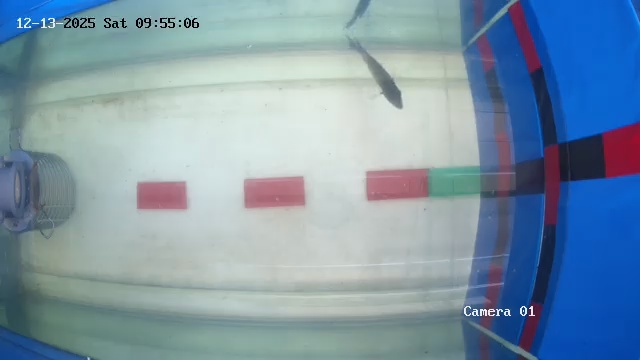fish: (346, 38, 412, 113)
